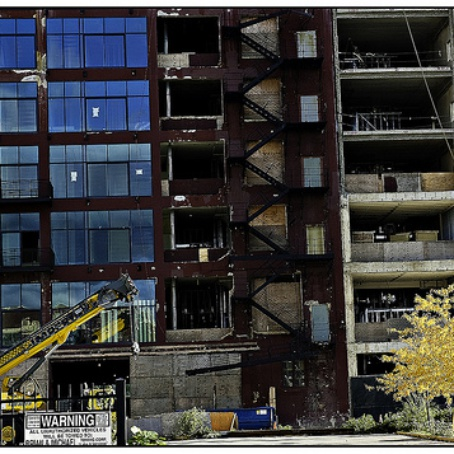building: (1, 1, 449, 406)
crane: (1, 265, 151, 454)
tree: (386, 291, 454, 424)
